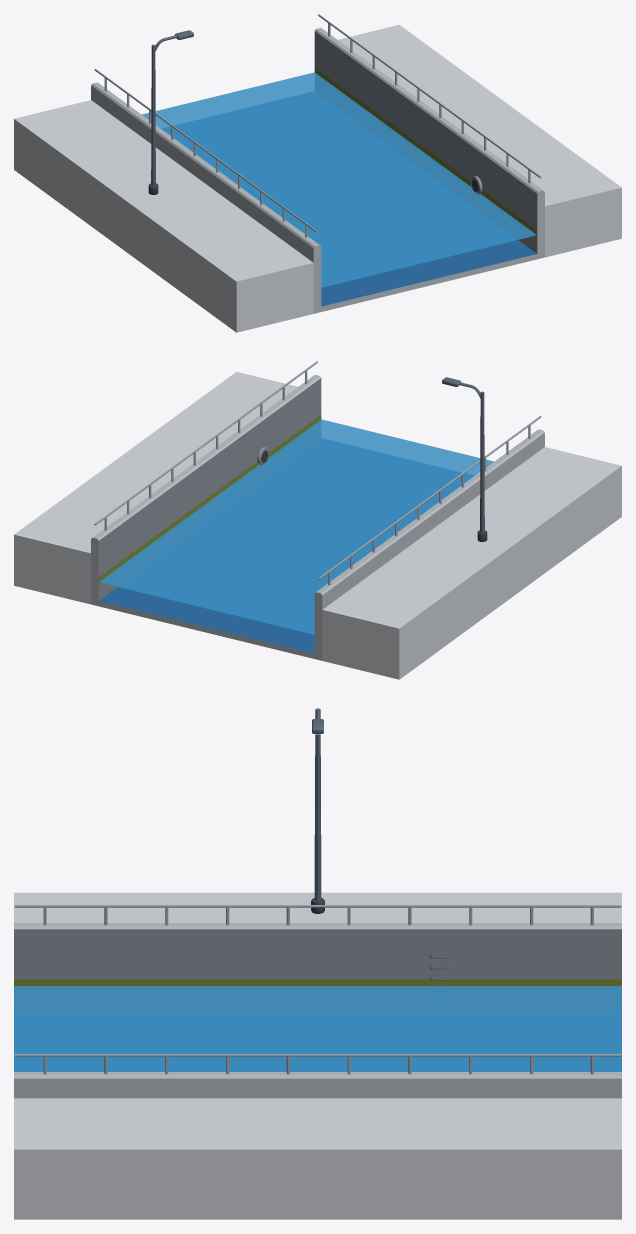
The model's file is canal_reto.glb.
3 renders of one model, top to bottom at view 1: azimuth 30°, elevation 25°; view 2: azimuth 150°, elevation 25°; view 3: azimuth 270°, elevation 25°, orthographic. The views are drawn at different scales.
Visible parts, largest first — view 1: canal_reto; view 2: canal_reto; view 3: canal_reto.
Boxes of the visible parts, box(x1,y1,x2,y2) form: canal_reto: box(14, 14, 621, 332); canal_reto: box(14, 361, 621, 679); canal_reto: box(14, 708, 621, 1219).
Bounding box in the file's own units: 15 × 7.58 × 15.
3 materials, 1 textured.
